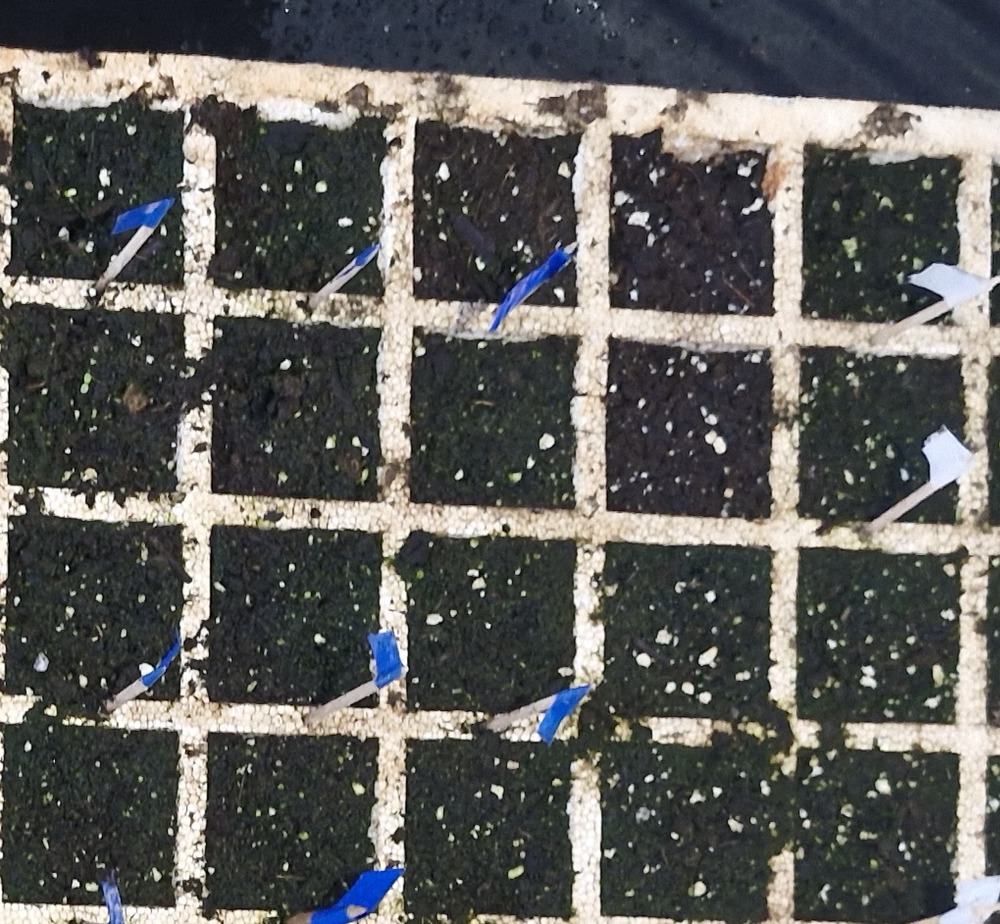Germinacao: (81, 373, 92, 394)
